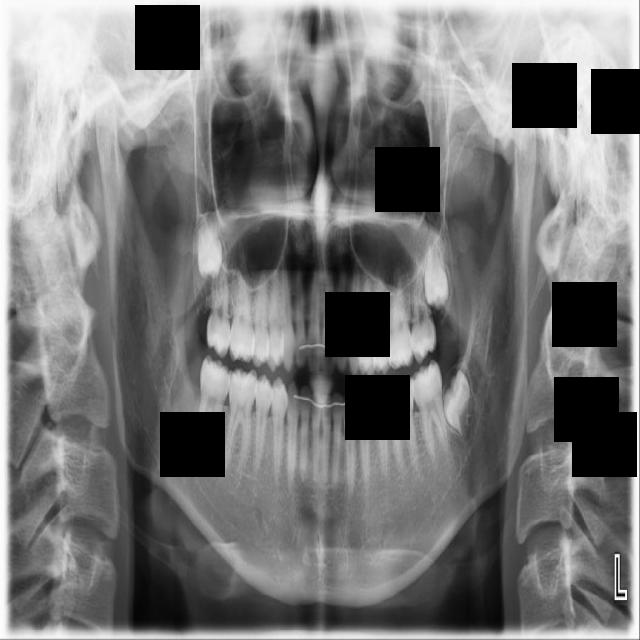3M ESPE Implant: (195, 200, 223, 279)
73: (613, 560, 617, 569)
BioHorizons Implant: (404, 245, 438, 365)
BioLife Implant: (419, 233, 451, 311)
Biomet 3i Implant: (432, 367, 486, 443)
Blue Sky Bio Implant: (408, 359, 454, 479)
Caries: (206, 250, 231, 358)
Implant: (195, 354, 233, 455)
